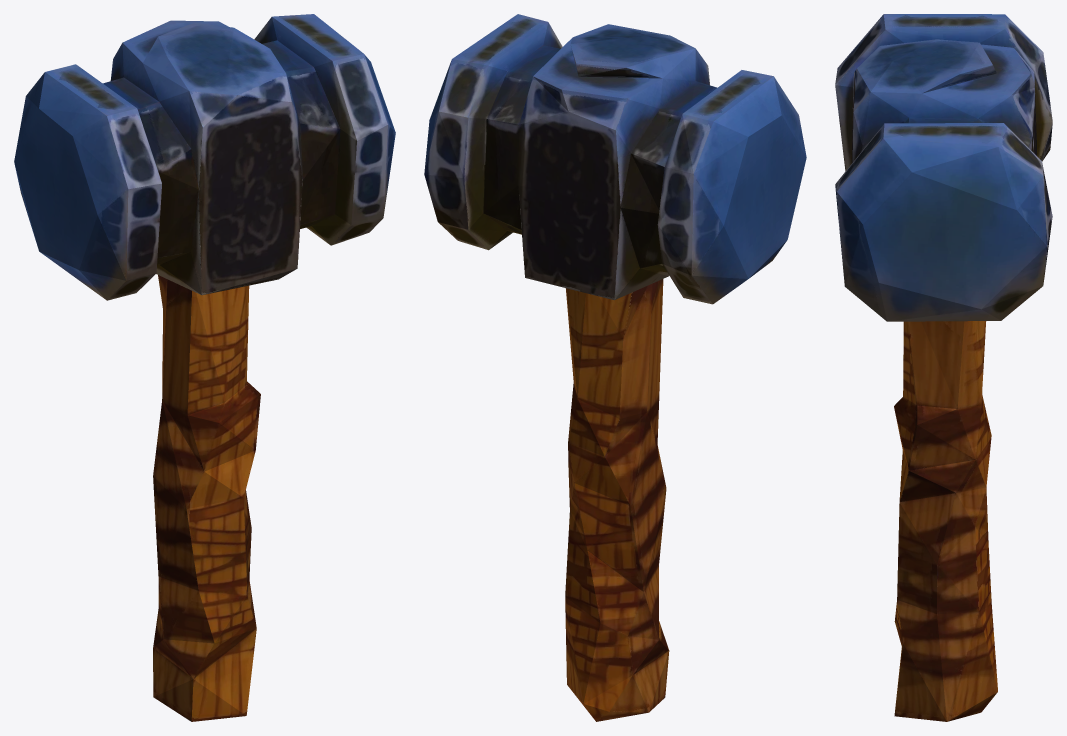
The model's file is crystal_war_hammer.glb.
The picture shows the model from 3 angles, left to right: view 1: azimuth 30°, elevation 25°; view 2: azimuth 150°, elevation 25°; view 3: azimuth 270°, elevation 25°; orthographic projection.
Parts seen in each view (by area): view 1: TexturedMesh_.obj; view 2: TexturedMesh_.obj; view 3: TexturedMesh_.obj.
Boxes of the visible parts, bbox=[...] form: TexturedMesh_.obj: bbox=[14, 14, 395, 721]; TexturedMesh_.obj: bbox=[424, 14, 806, 721]; TexturedMesh_.obj: bbox=[835, 14, 1052, 721].
Bounding box in the file's own units: 0.931 × 1.97 × 0.5921.
1 material, 1 textured.
